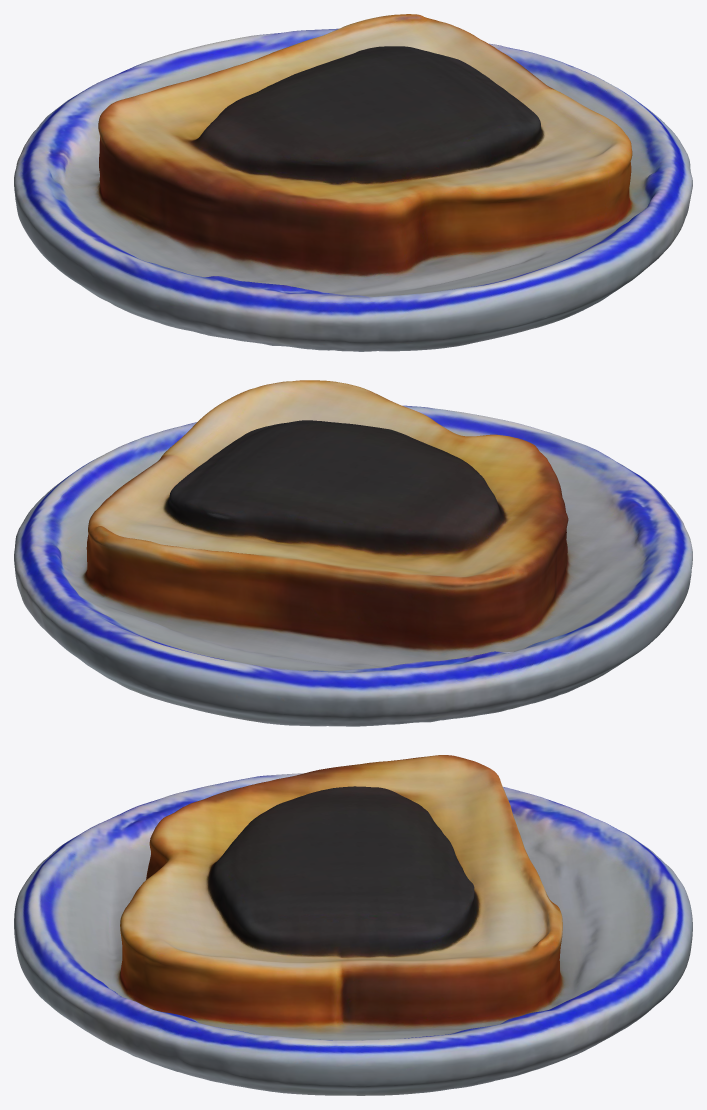
File: toast.glb
3 views of the same model, one above another, from view 1: azimuth 30°, elevation 25°; view 2: azimuth 150°, elevation 25°; view 3: azimuth 270°, elevation 25° (orthographic).
Visible parts, largest first — view 1: high_poly_0; view 2: high_poly_0; view 3: high_poly_0.
Part boxes in pixels (x1=…): high_poly_0: x1=14, y1=14, x2=692, y2=351; high_poly_0: x1=14, y1=380, x2=692, y2=726; high_poly_0: x1=14, y1=755, x2=692, y2=1095.
Size of the model in its own units: 0.9987 by 0.2059 by 1.
1 material, 1 textured.
